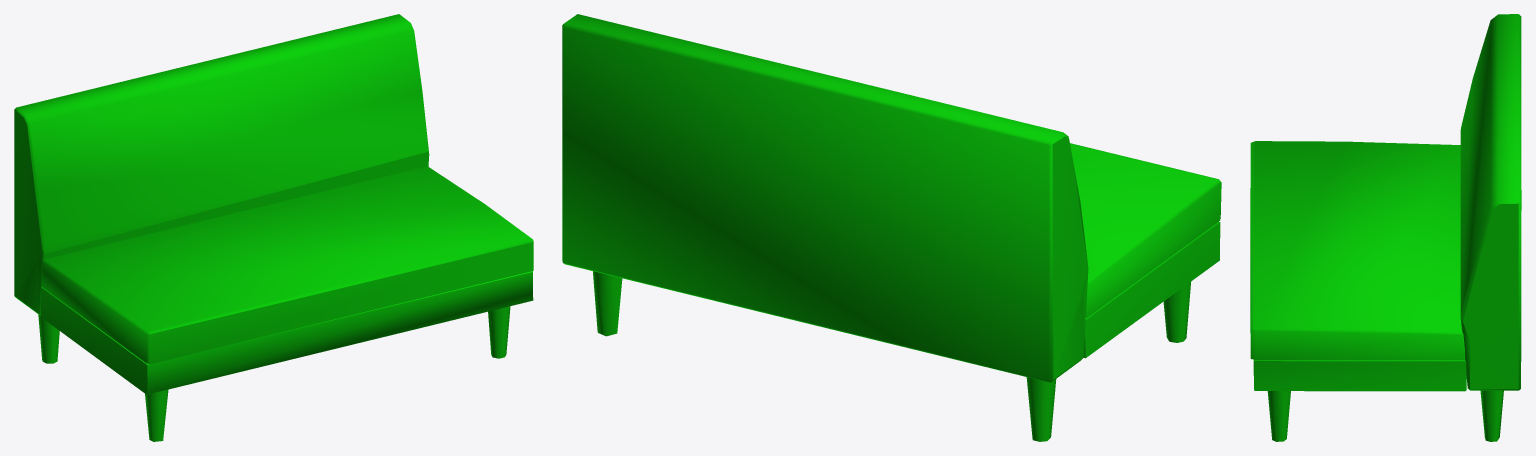
The model's file is UCX_Sofa3.fbx.
The picture shows the model from 3 angles, left to right: view 1: azimuth 30°, elevation 25°; view 2: azimuth 150°, elevation 25°; view 3: azimuth 270°, elevation 25°; orthographic projection. The views are drawn at different scales.
Visible parts, largest first — view 1: UCX_Sofa3; view 2: UCX_Sofa3; view 3: UCX_Sofa3.
Part boxes in pixels (x1=…): UCX_Sofa3: x1=14, y1=14, x2=533, y2=441; UCX_Sofa3: x1=562, y1=14, x2=1221, y2=441; UCX_Sofa3: x1=1250, y1=14, x2=1521, y2=441.
Bounding box in the file's own units: 1.28 × 0.7849 × 0.7766.
